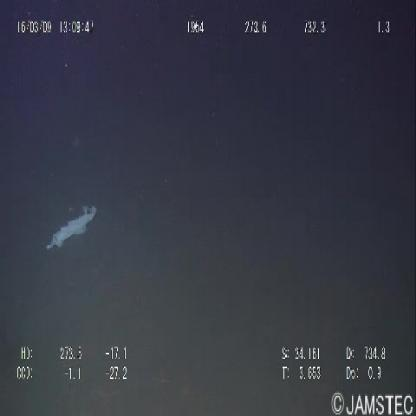Rác: (41, 193, 102, 264)
